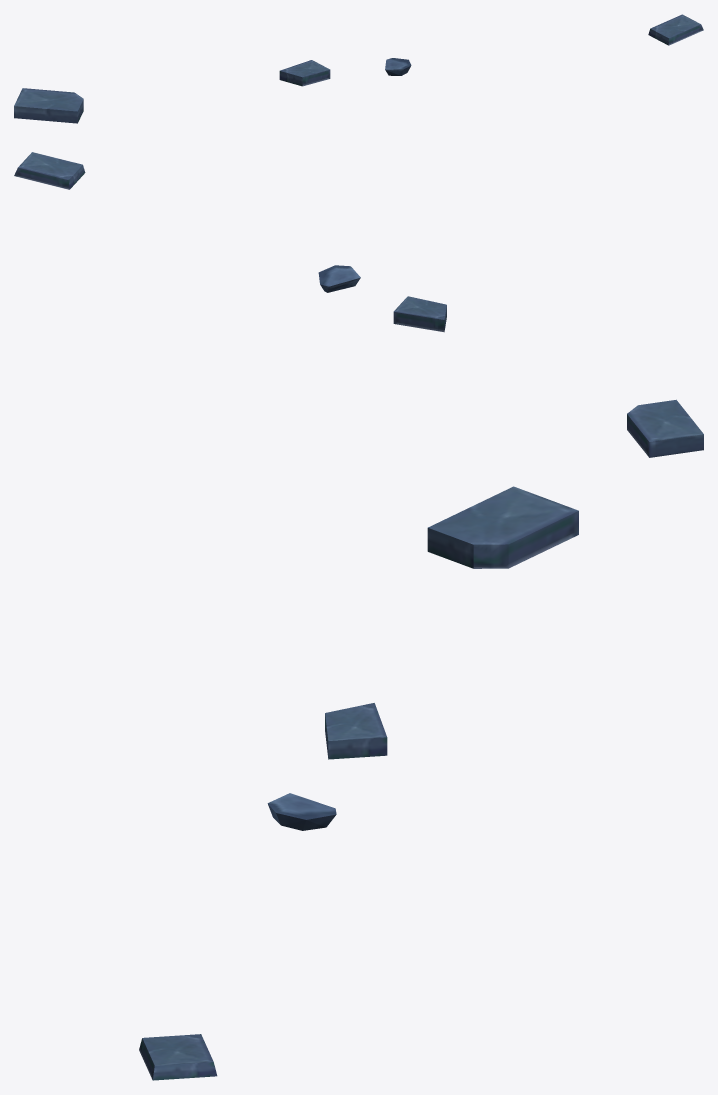
File: Area07_24.fbx
3 views of the same model, one above another, from view 1: azimuth 30°, elevation 25°; view 2: azimuth 150°, elevation 25°; view 3: azimuth 270°, elevation 25° (orthographic). The views are drawn at different scales.
Visible parts, largest first — view 1: Area07_24; view 2: Area07_24; view 3: Area07_24.
Part boxes in pixels (left/top/right/bottom): Area07_24: left=14, top=14, right=703, bottom=123; Area07_24: left=14, top=152, right=703, bottom=457; Area07_24: left=139, top=486, right=578, bottom=1080.
Size of the model in its own units: 2128 by 56.04 by 676.
1 material, 1 textured.
